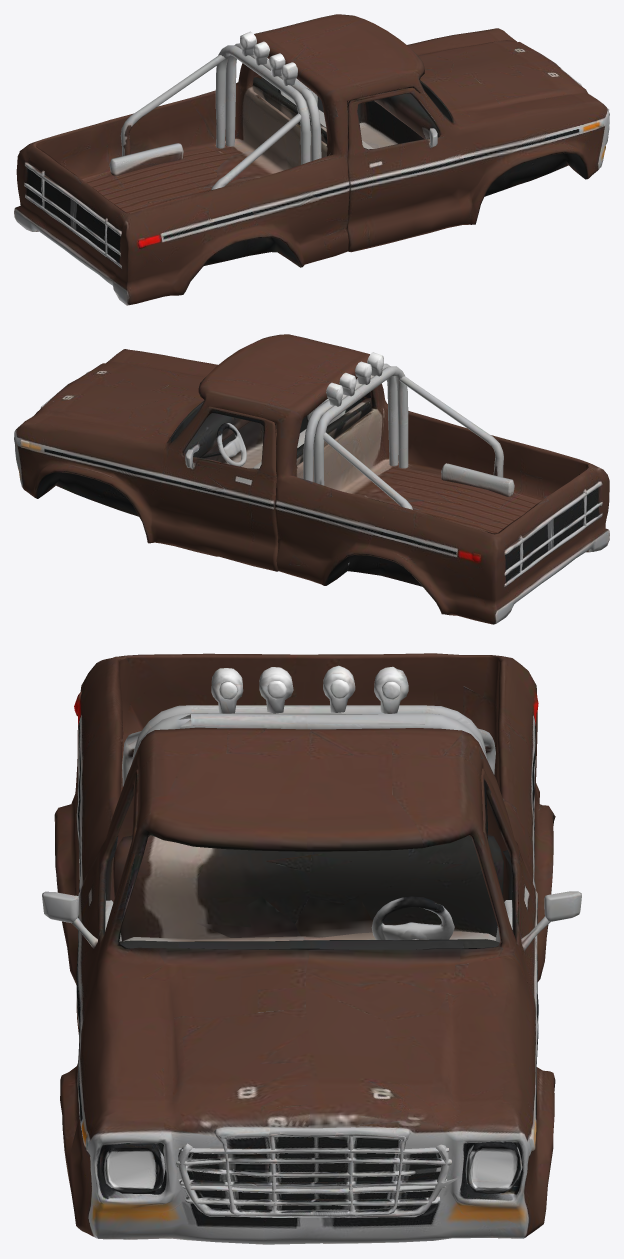
The model's file is f_truck2.glb.
3 renders of one model, top to bottom at view 1: azimuth 30°, elevation 25°; view 2: azimuth 150°, elevation 25°; view 3: azimuth 270°, elevation 25°, orthographic. The views are drawn at different scales.
Parts seen in each view (by area): view 1: f_truck2; view 2: f_truck2; view 3: f_truck2.
Part boxes in pixels (<box>): f_truck2: <box>14,14,609,305</box>; f_truck2: <box>14,334,609,624</box>; f_truck2: <box>42,653,581,1244</box>.
Size of the model in its own units: 5 by 1.76 by 2.4.
Materials: 1 (1 with a texture image).
